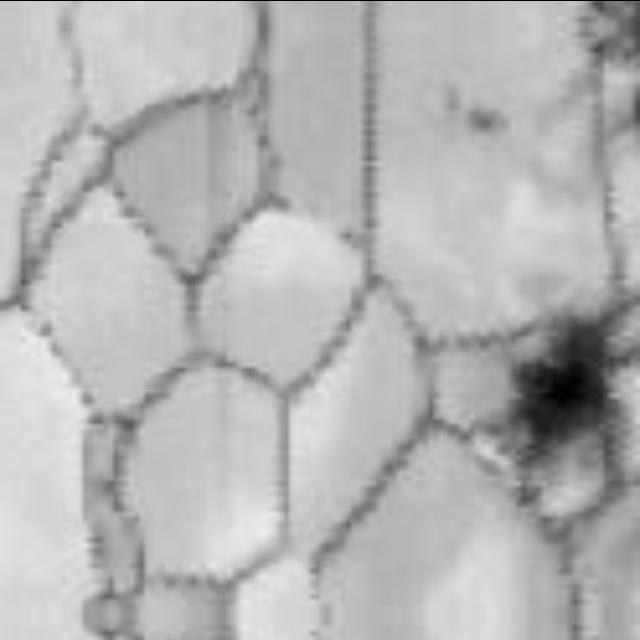good_void: (503, 308, 623, 508), (466, 102, 508, 135)
